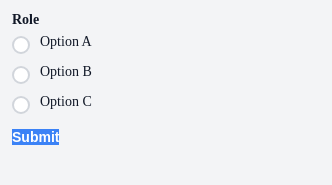
RadioGroup Component › regression: FormField name inheritance and touched-on-submit › shows its validation error on first submit even when left at its default (regression: missing registerField)
What coordinates should you click on to do the following:
click the button "Submit"
I would click on:
 (36, 137)
Its box is [12, 129, 60, 145].
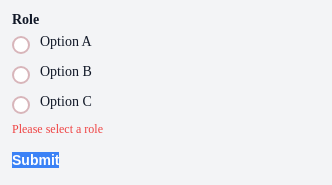
Result: the text "Please select a role" is shown at [12, 122, 103, 136]
